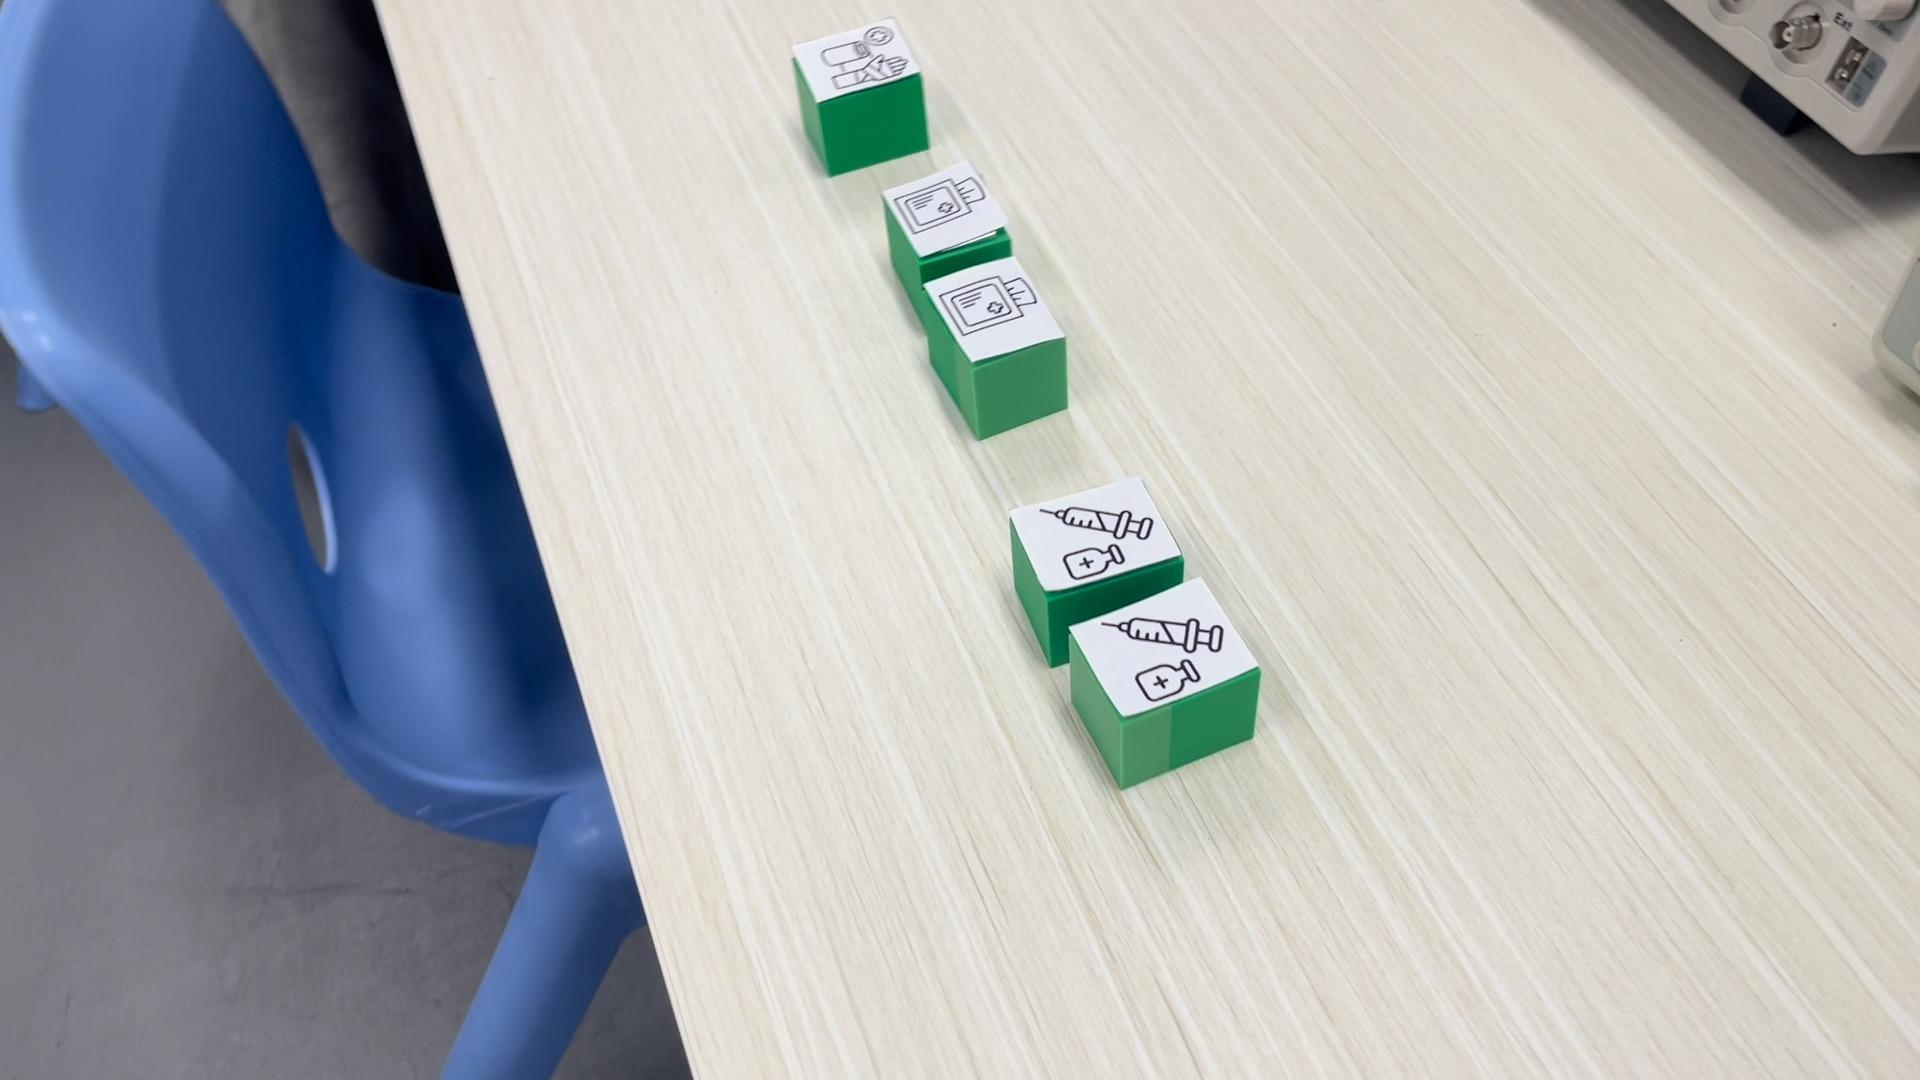Bandages: (789, 16, 931, 175)
Gauze: (922, 253, 1069, 443), (878, 158, 1010, 272)
antiseptic cream: (1067, 575, 1262, 790), (1006, 473, 1182, 600)
